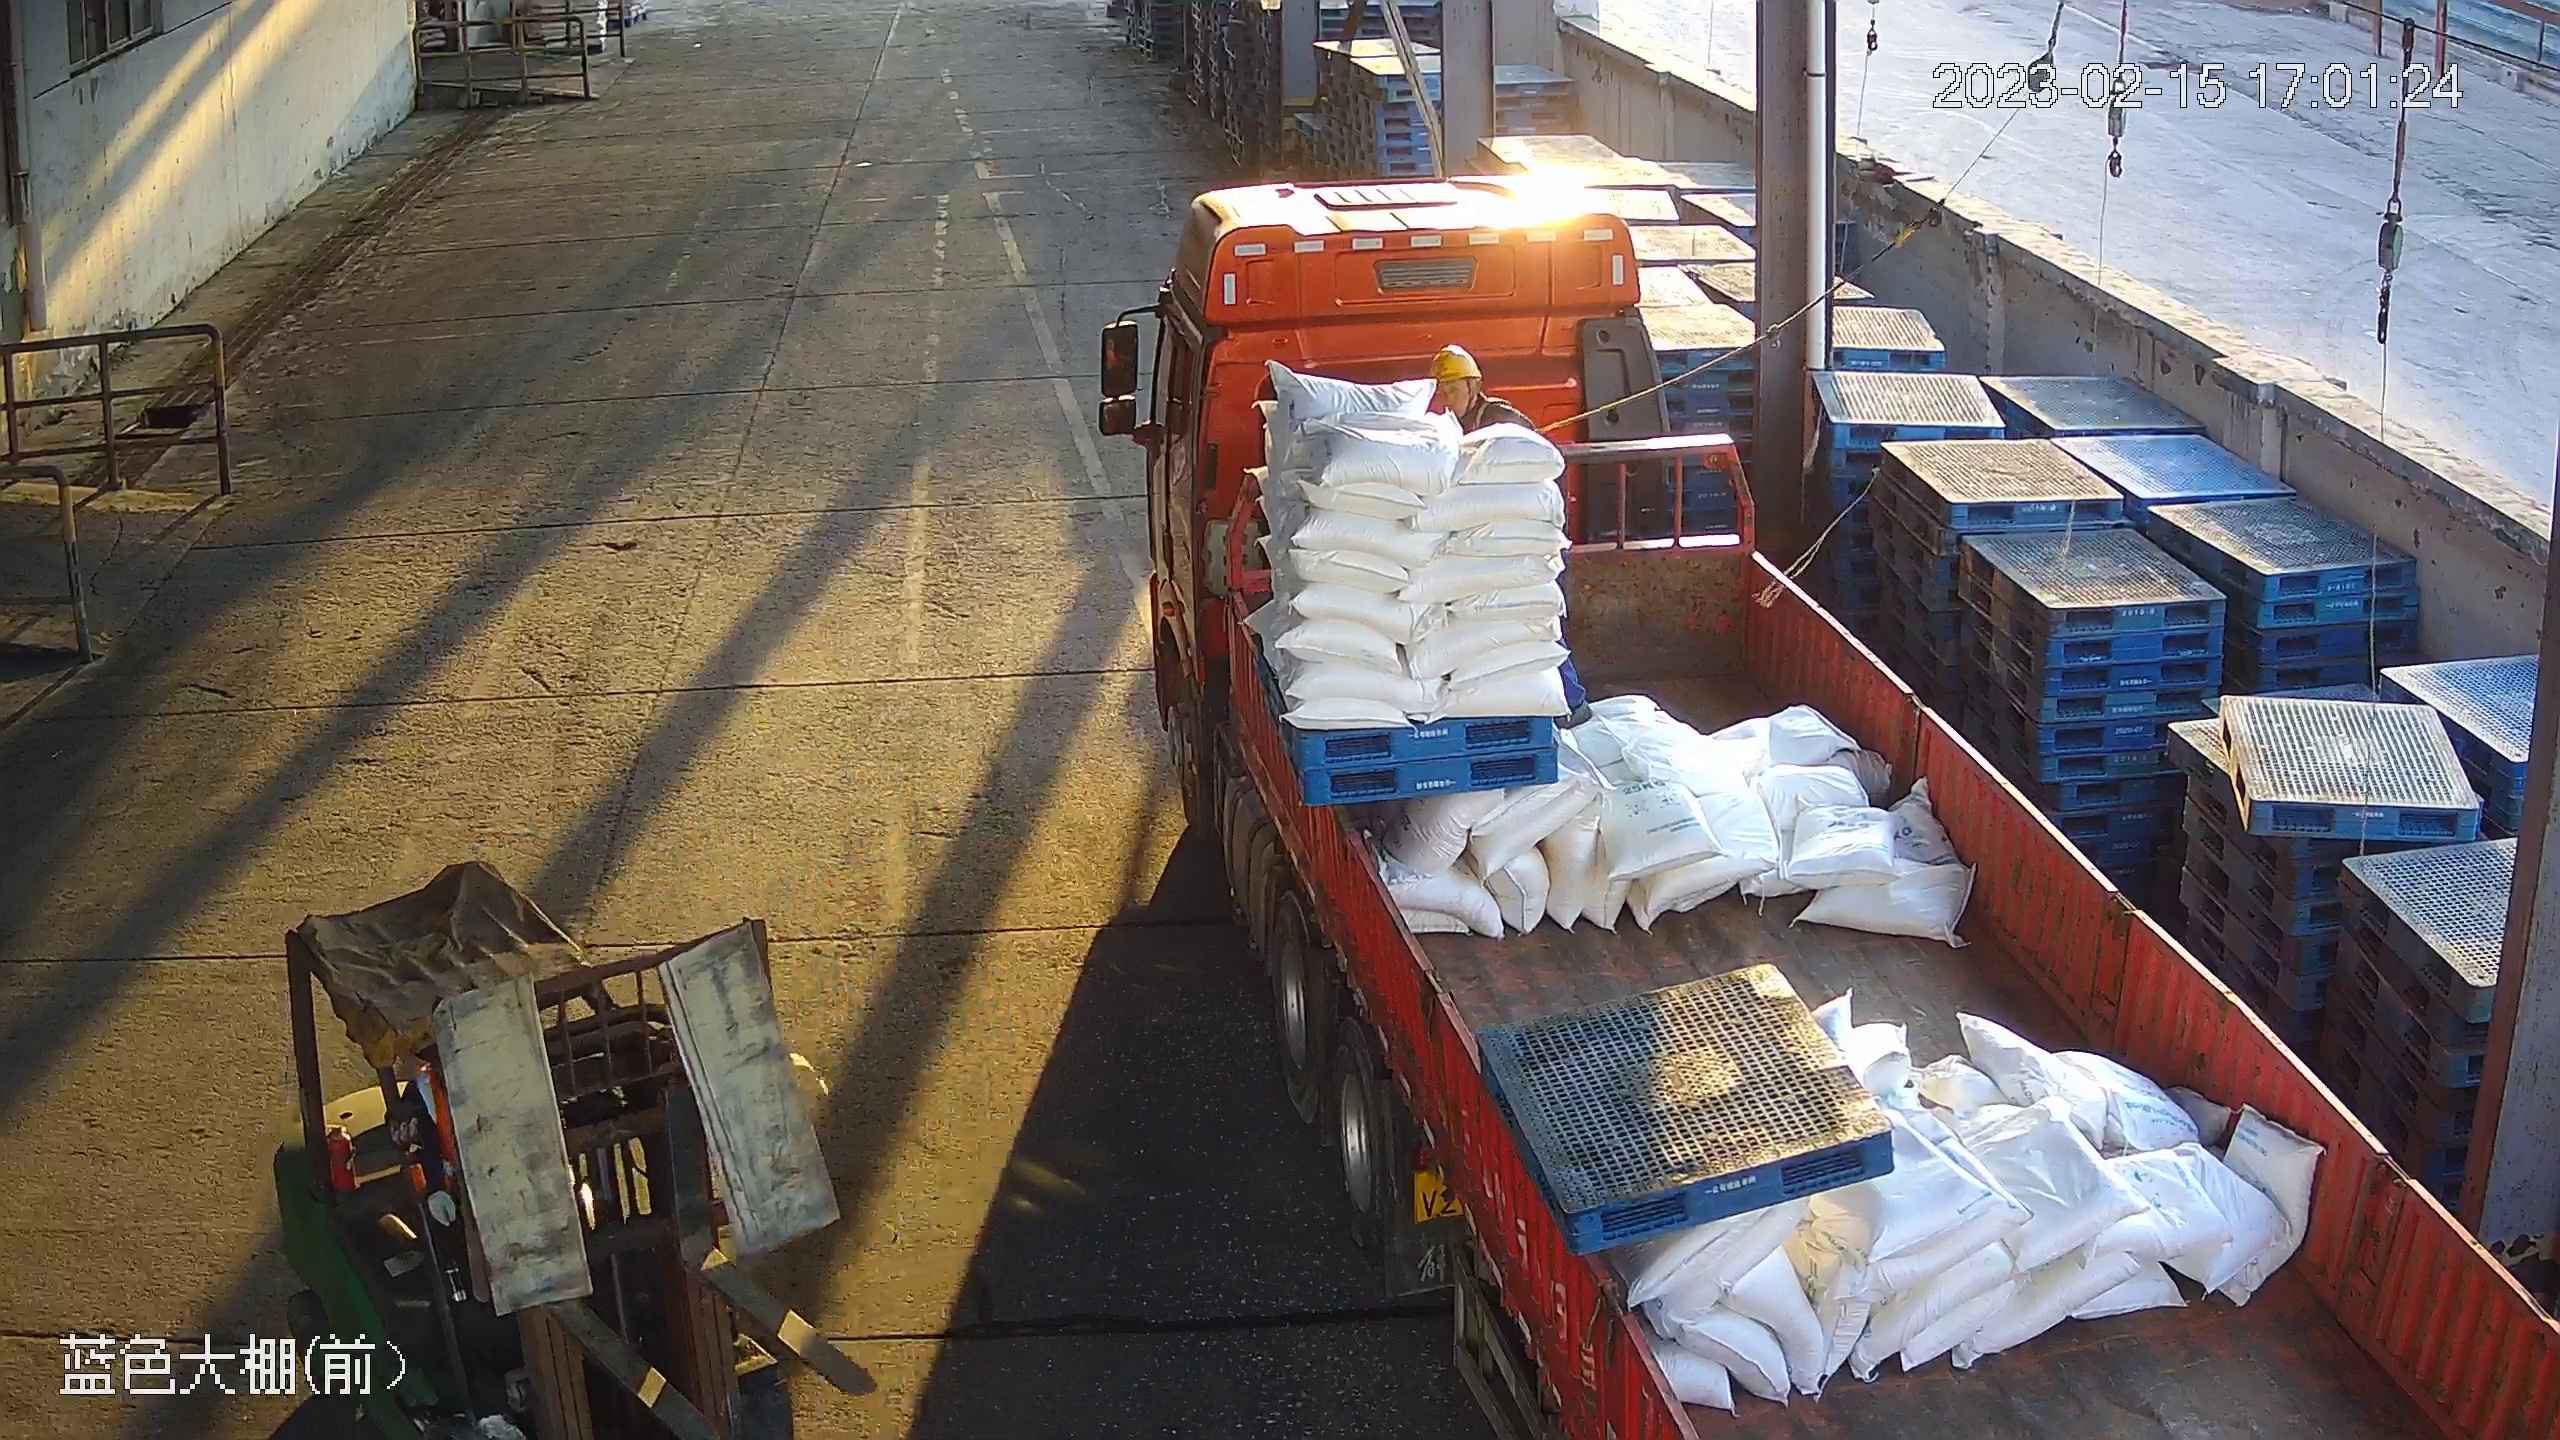belt: (1476, 395, 1571, 446)
head: (1425, 341, 1542, 434)
helmet: (1429, 341, 1482, 384)
truck: (1131, 168, 2560, 1440)
